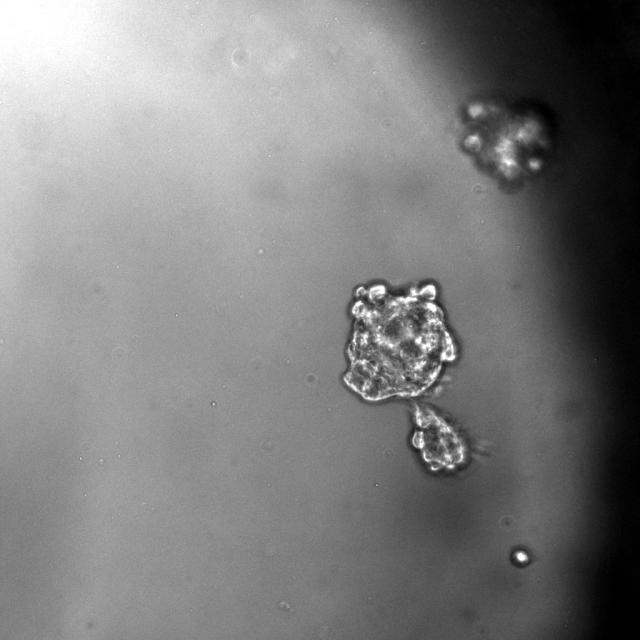organoid: (342, 283, 468, 472), (459, 98, 555, 187), (509, 545, 532, 567)
